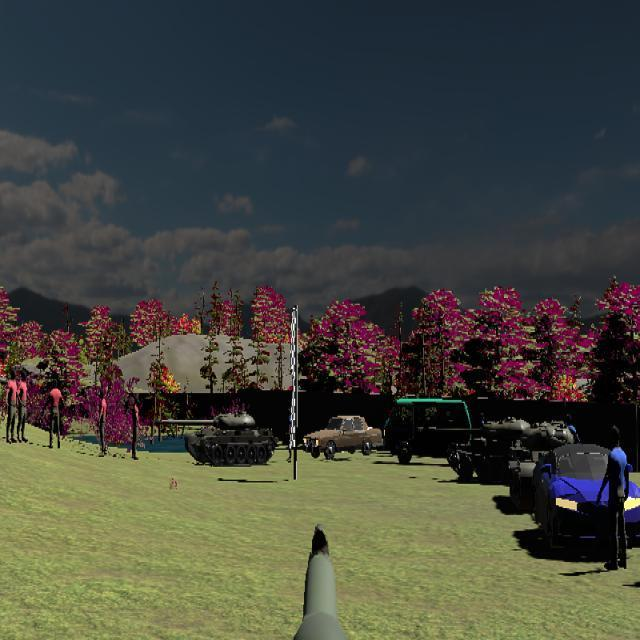Human: (44, 379, 67, 449), (5, 369, 22, 445), (16, 371, 32, 444)
Tank: (156, 411, 276, 468)
car: (532, 443, 640, 554), (384, 396, 477, 464), (303, 414, 384, 459)
